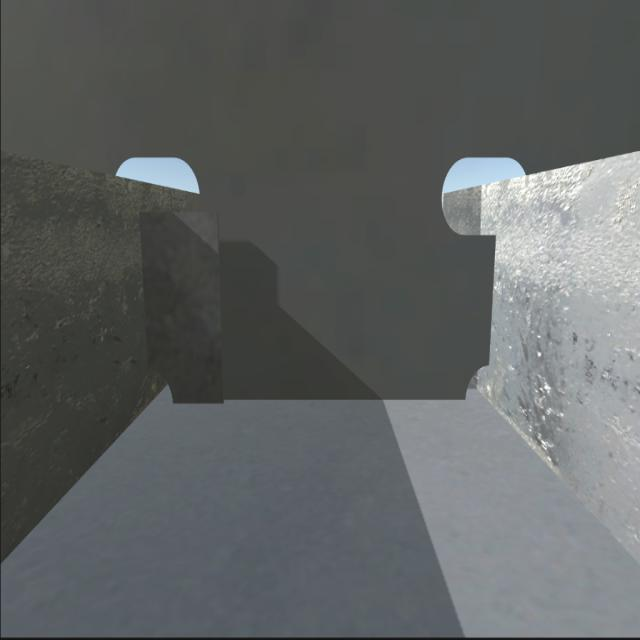fillet_hole: (462, 359, 495, 398), (143, 376, 175, 406)
fillet_yong_jeop_jang: (178, 394, 466, 406)
longi_yong_jeop_jang: (485, 233, 506, 363), (138, 209, 152, 376)
plate_CP01: (140, 203, 226, 405)
